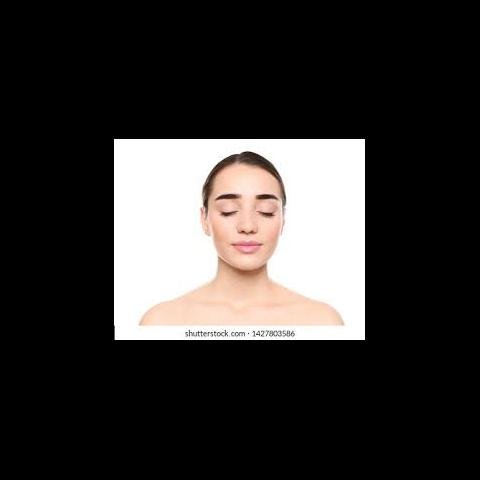closed: (215, 192, 280, 223)
